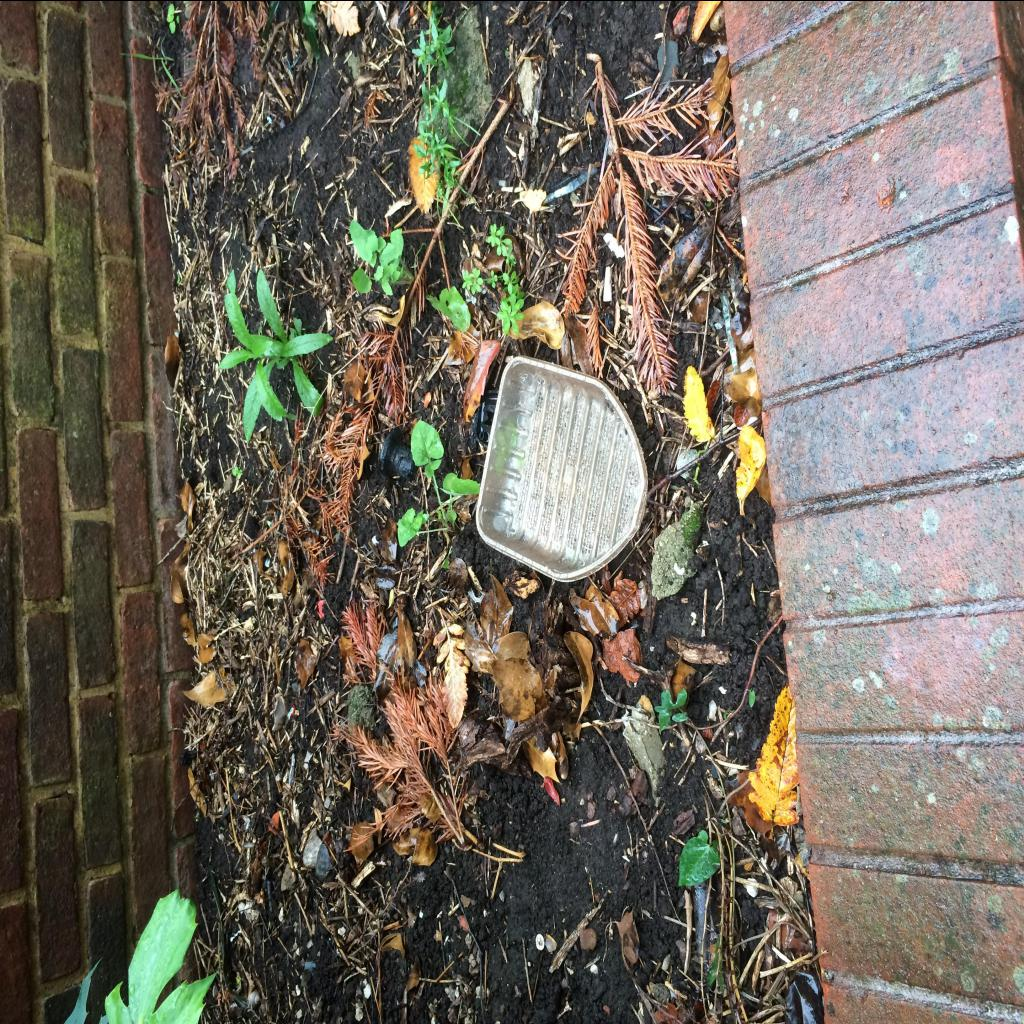Disposable food container: (476, 354, 648, 580)
Other plastic bottle: (379, 427, 418, 481), (474, 386, 500, 448)
Plastic film: (543, 164, 597, 204), (720, 292, 740, 374)
